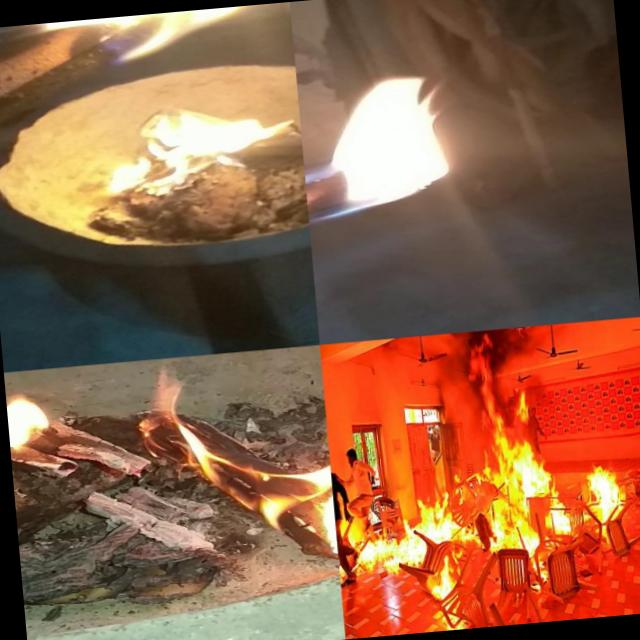fire: (136, 351, 338, 580), (294, 47, 463, 236), (84, 90, 300, 196), (7, 2, 294, 72), (481, 426, 556, 511), (5, 382, 79, 462), (462, 508, 544, 566), (354, 519, 424, 579), (582, 454, 622, 522), (417, 485, 459, 547), (428, 548, 467, 606), (547, 478, 577, 538), (513, 386, 534, 424), (439, 612, 466, 630)
smoke: (431, 324, 551, 394)
